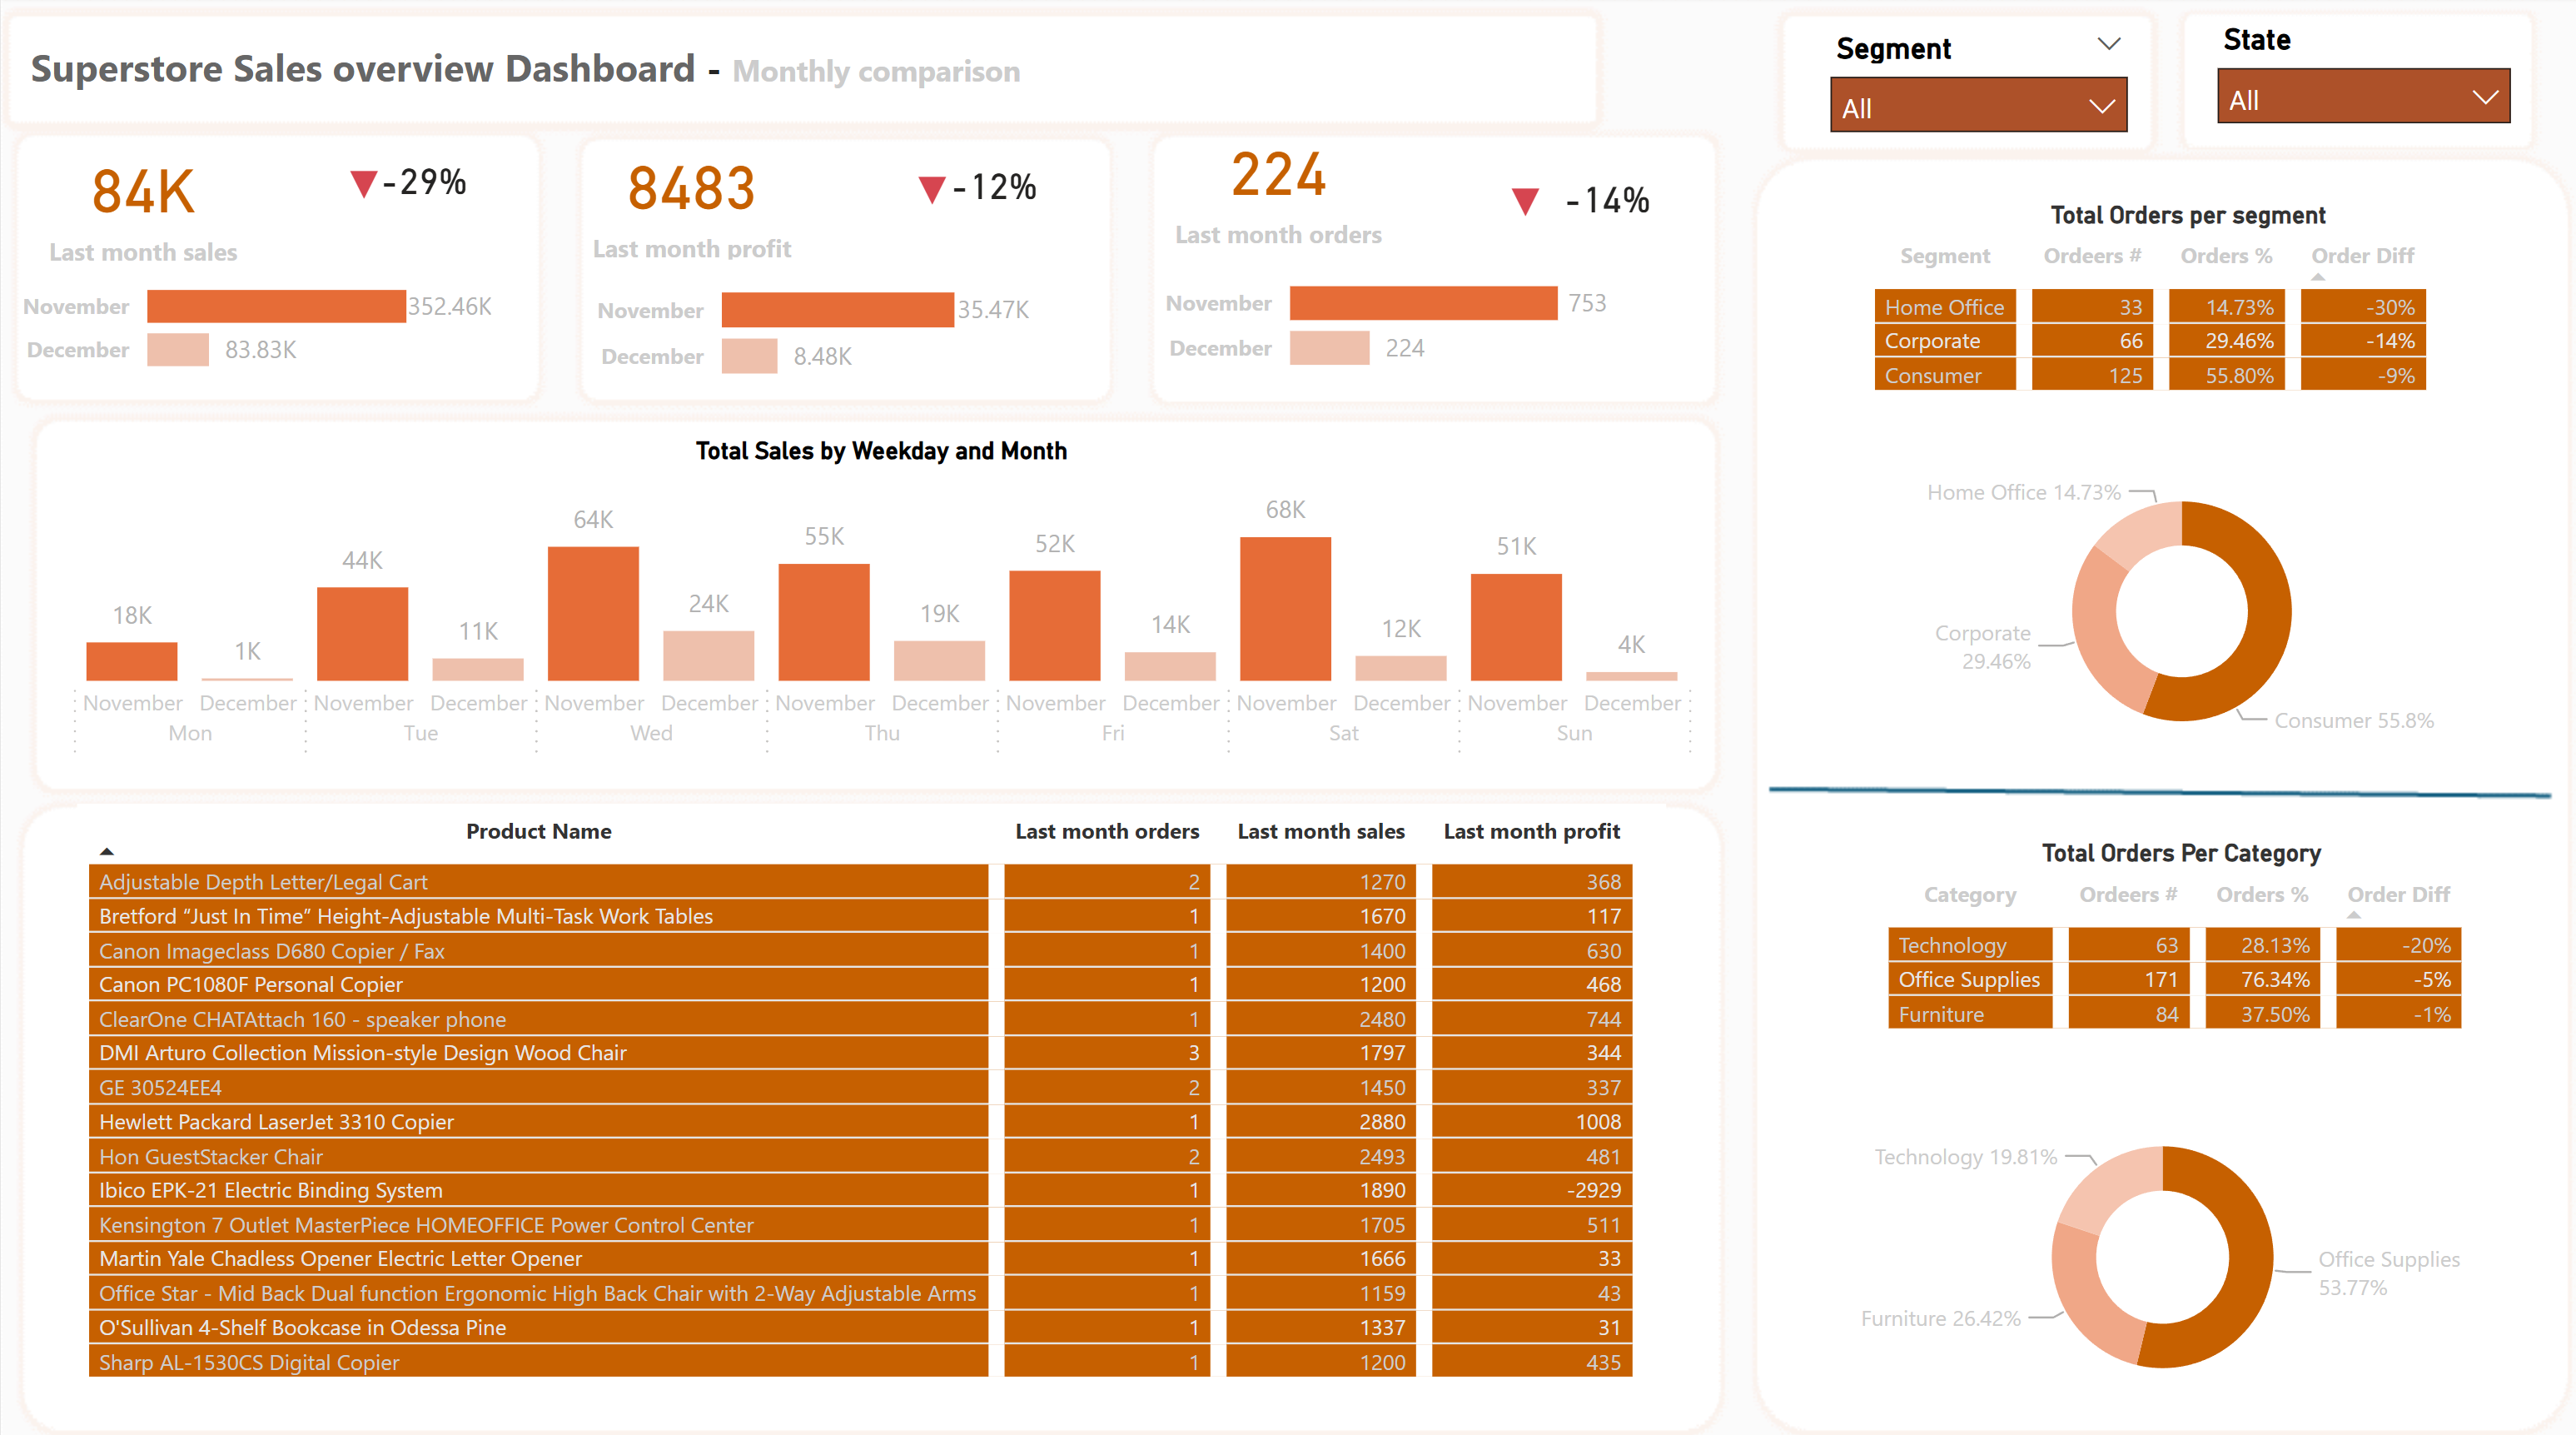

Layout of this report page (visuals, bound fields, positions):
{"tool":"powerbi","page":{"name":"Page 1","canvas":[1280,720],"ordinal":0},"visuals":[{"type":"textbox","box":[9.9,16.7,760.5,37.8],"z":0},{"type":"card","fields":{"Values":["Measure.Last month sales"]},"box":[14.2,63.2,112.1,77.4],"z":1000},{"type":"columnChart","title":"Total Sales by Weekday and Month","fields":{"Category":["Superstore.WeekdayName","Superstore.Order Date.Variation.Date Hierarchy.Month"],"Y":["Sum(Superstore.Sales)"]},"box":[14.2,218,845.3,167.8],"z":2000},{"type":"barChart","title":"Total Sales by Month","fields":{"Category":["Superstore.Order Date.Variation.Date Hierarchy.Month"],"Y":["Sum(Superstore.Sales)"]},"box":[4.3,112.7,244,95.4],"z":3000},{"type":"card","fields":{"Values":["Measure.Sales % diff"]},"box":[163.5,70.6,91.7,42.1],"z":4000},{"type":"card","fields":{"Values":["Measure.sales icon"]},"box":[150.5,69.4,58.8,48.3],"z":5000},{"type":"tableEx","title":"Total Orders Per Category","fields":{"Values":["Superstore.Category","Measure.Last month orders1","Measure.Last month orders","Measure.orders % diff"]},"box":[930.1,417.4,302.8,141.2],"z":6000},{"type":"donutChart","fields":{"Category":["Superstore.Category"],"Y":["Measure.Last month orders"]},"box":[883.7,549.3,375.9,150.5],"z":7000},{"type":"tableEx","title":"Total Orders per segment","fields":{"Values":["Superstore.Segment","Measure.Last month orders1","Measure.Last month orders","Measure.orders % diff"]},"box":[923.3,100.9,323.3,112.7],"z":8000},{"type":"donutChart","fields":{"Y":["Measure.Last month orders"],"Category":["Superstore.Segment"]},"box":[923.3,229.1,315.8,150.5],"z":9000},{"type":"tableEx","fields":{"Values":["Superstore.Product Name","Measure.Last month orders","Measure.Last month sales","Measure.Last month profit"]},"box":[37.8,400,787.7,307.2],"z":10000},{"type":"barChart","title":"Total Sales by Month","fields":{"Category":["Superstore.Order Date.Variation.Date Hierarchy.Month"],"Y":["Sum(Superstore.Profit)"]},"box":[289.2,112.7,225.4,100.3],"z":11000},{"type":"card","fields":{"Values":["Measure.Last month profit"]},"box":[283,65,118.9,70.6],"z":12000},{"type":"card","fields":{"Values":["Measure.Last month orders"]},"box":[571,53.3,124.5,79.9],"z":13000},{"type":"barChart","title":"Total Sales by Month","fields":{"Category":["Superstore.Order Date.Variation.Date Hierarchy.Month"],"Y":["Count(Superstore.Order ID)"]},"box":[571,110.2,230.4,97.8],"z":14000},{"type":"card","fields":{"Values":["Measure.Profit % diff"]},"box":[446.5,72.5,91,43.3],"z":15000},{"type":"card","fields":{"Values":["Measure.orders % diff"]},"box":[750.6,79.3,91,42.7],"z":16000},{"type":"card","fields":{"Values":["Measure.profit icon"]},"box":[431.6,72.5,60.1,48.3],"z":17000},{"type":"card","fields":{"Values":["Measure.orders icon"]},"box":[726.4,78,58.8,48.3],"z":18000},{"type":"slicer","fields":{"Values":["Superstore.Segment"]},"box":[897.3,11.8,167.2,61.9],"z":19000},{"type":"slicer","fields":{"Values":["Superstore.State"]},"box":[1089.3,7.4,165.3,57.6],"z":20000}]}

Visuals, with their boxes in screenshot pixels (x1, y1, x2, y2), scaled from the page's 1280x720 canvas onto the 2576x1435 screenshot:
textbox: left=20, top=33, right=1550, bottom=108
card - Measure.Last month sales: left=28, top=126, right=254, bottom=280
"Total Sales by Weekday and Month" columnChart: left=28, top=435, right=1730, bottom=769
"Total Sales by Month" barChart: left=8, top=225, right=500, bottom=415
card - Measure.Sales % diff: left=329, top=141, right=514, bottom=225
card - Measure.sales icon: left=303, top=138, right=421, bottom=235
"Total Orders Per Category" tableEx: left=1872, top=832, right=2481, bottom=1114
donutChart - Superstore.Category x Measure.Last month orders: left=1778, top=1095, right=2535, bottom=1395
"Total Orders per segment" tableEx: left=1858, top=201, right=2509, bottom=426
donutChart - Measure.Last month orders x Superstore.Segment: left=1858, top=456, right=2494, bottom=756
tableEx - Superstore.Product Name x Measure.Last month orders: left=76, top=797, right=1661, bottom=1409
"Total Sales by Month" barChart: left=582, top=225, right=1036, bottom=425
card - Measure.Last month profit: left=569, top=130, right=808, bottom=270
card - Measure.Last month orders: left=1149, top=107, right=1400, bottom=266
"Total Sales by Month" barChart: left=1149, top=220, right=1613, bottom=415
card - Measure.Profit % diff: left=898, top=144, right=1082, bottom=231
card - Measure.orders % diff: left=1510, top=158, right=1693, bottom=243
card - Measure.profit icon: left=868, top=144, right=990, bottom=241
card - Measure.orders icon: left=1462, top=156, right=1580, bottom=252
slicer - Superstore.Segment: left=1806, top=23, right=2142, bottom=147
slicer - Superstore.State: left=2192, top=15, right=2525, bottom=130
